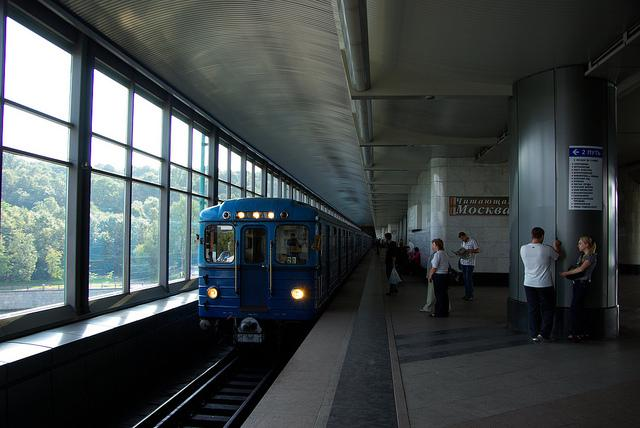Train: (196, 194, 372, 344)
